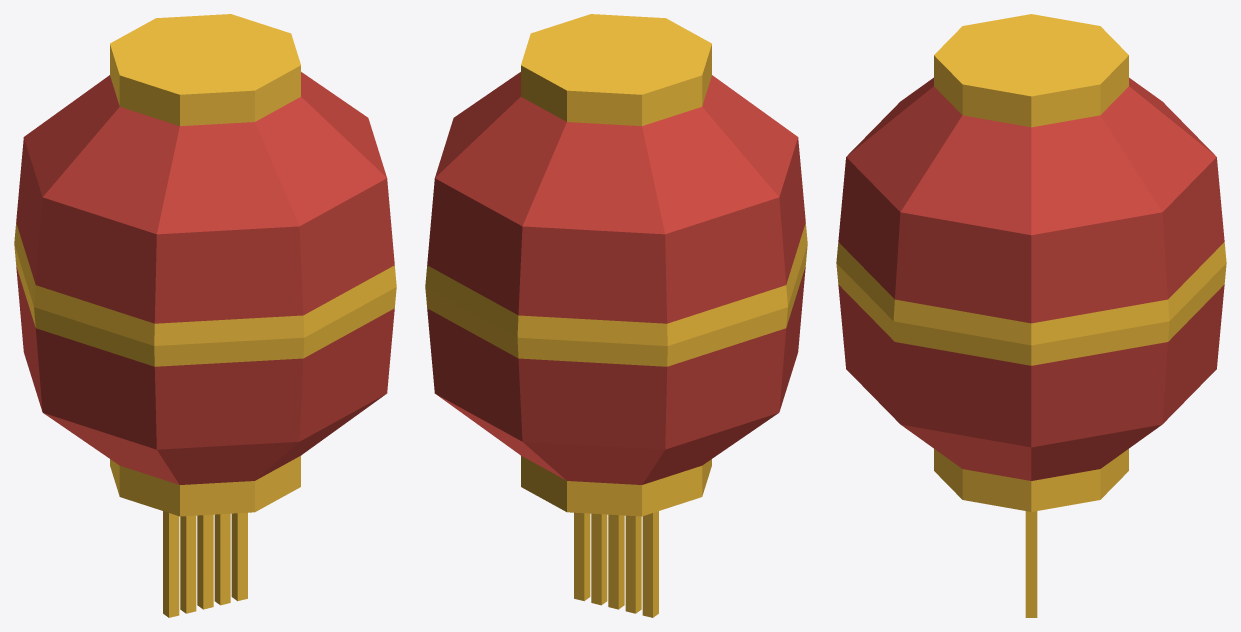
Rendered from RedLantern.fbx.
The picture shows the model from 3 angles, left to right: view 1: azimuth 30°, elevation 25°; view 2: azimuth 150°, elevation 25°; view 3: azimuth 270°, elevation 25°; orthographic projection.
Visible parts, largest first — view 1: RedLantern; view 2: RedLantern; view 3: RedLantern.
Boxes of the visible parts, x1,y1,x2,y2 form: RedLantern: (14,14,396,617); RedLantern: (425,14,807,617); RedLantern: (836,14,1226,617).
Size of the model in its own units: 2 by 3.07 by 2.
Materials: 1 (1 with a texture image).
